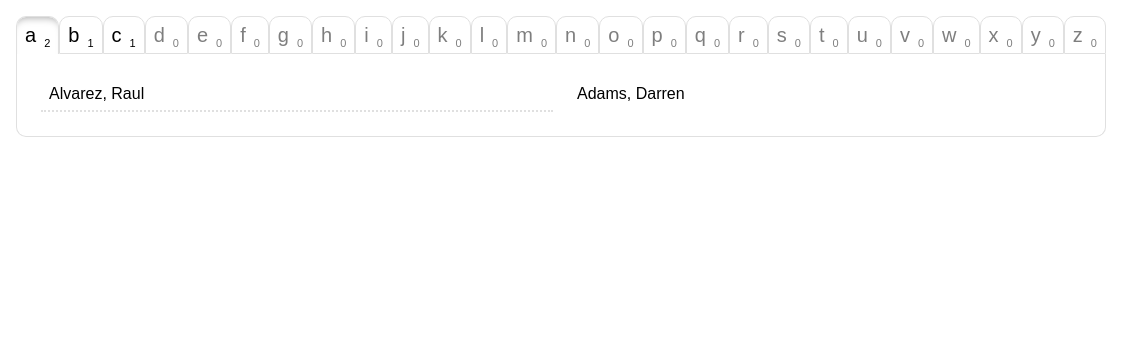
Test: clicking on the contacts
Click the list item with test id "contact-list-item" showing "Alvarez, Raul": x=297, y=95 x1=41 y1=78 x2=553 y2=112
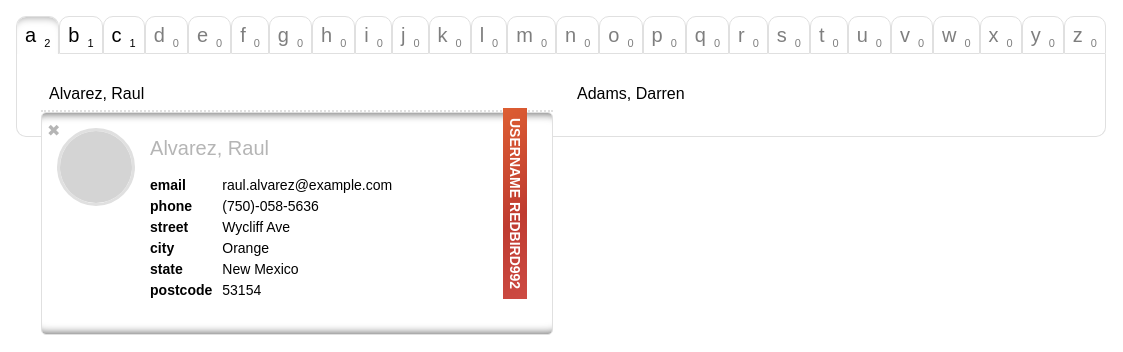
Now the element with test id "contact-detail" is shown, box x1=41 y1=112 x2=553 y2=335
